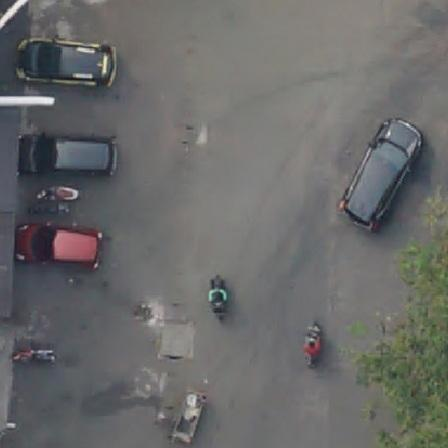Car: (339, 115, 425, 229), (14, 34, 122, 93), (14, 132, 120, 181), (12, 220, 104, 274)
Motorcycle: (12, 341, 62, 371), (300, 321, 331, 368), (208, 273, 235, 325), (32, 183, 81, 204), (24, 199, 71, 218)
